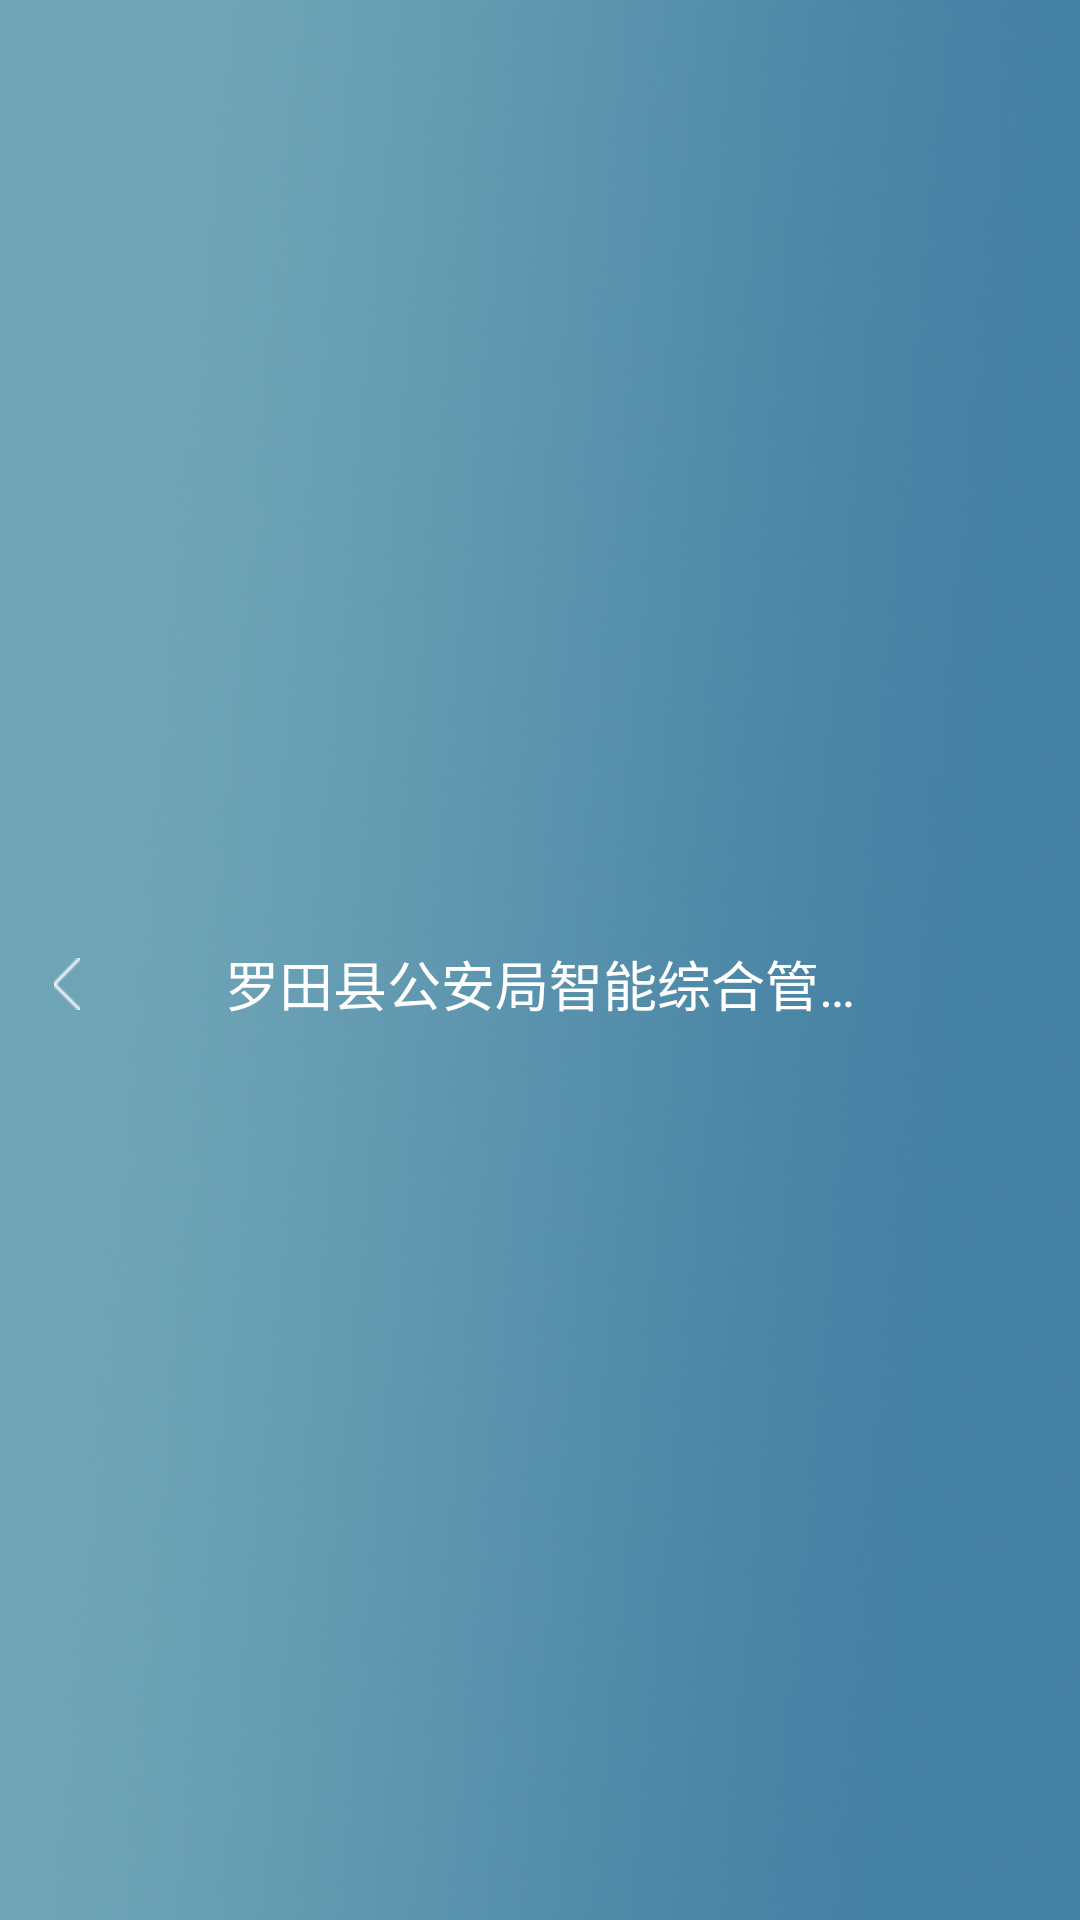

Where icons sit on this 1080w x 1920h app screen, as (x1, y1, x2, y2):
back: (54, 958, 80, 1010)
